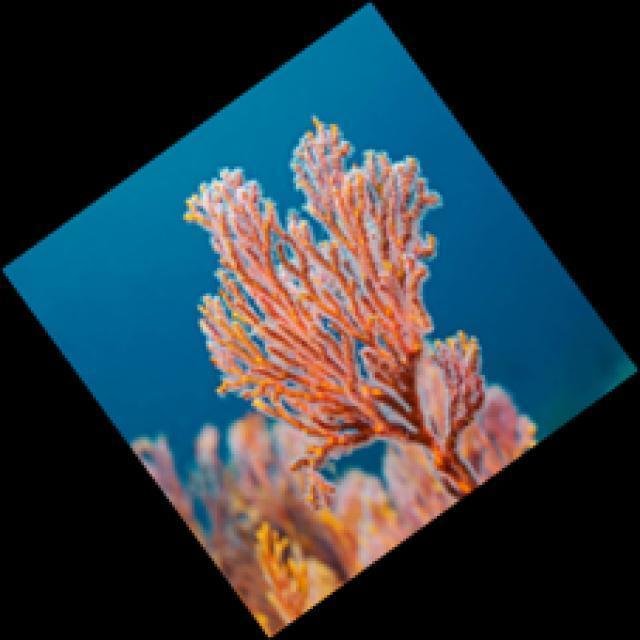Healthy: (182, 119, 488, 511), (130, 376, 540, 640)
